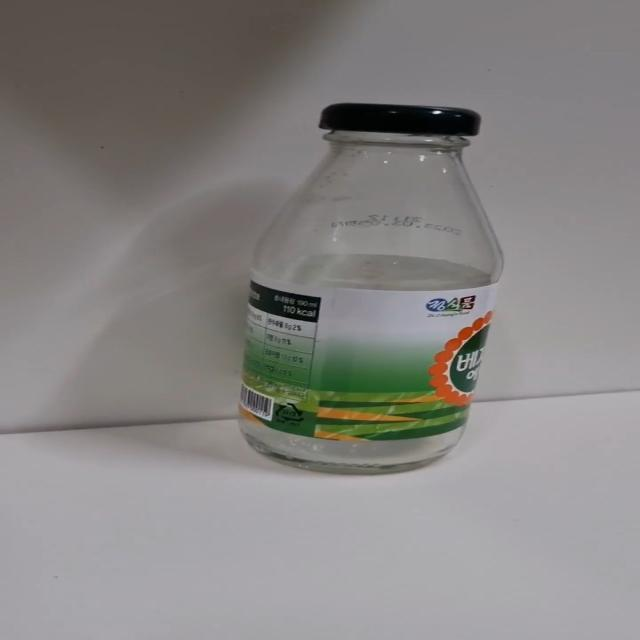Glass: (236, 103, 505, 478)
